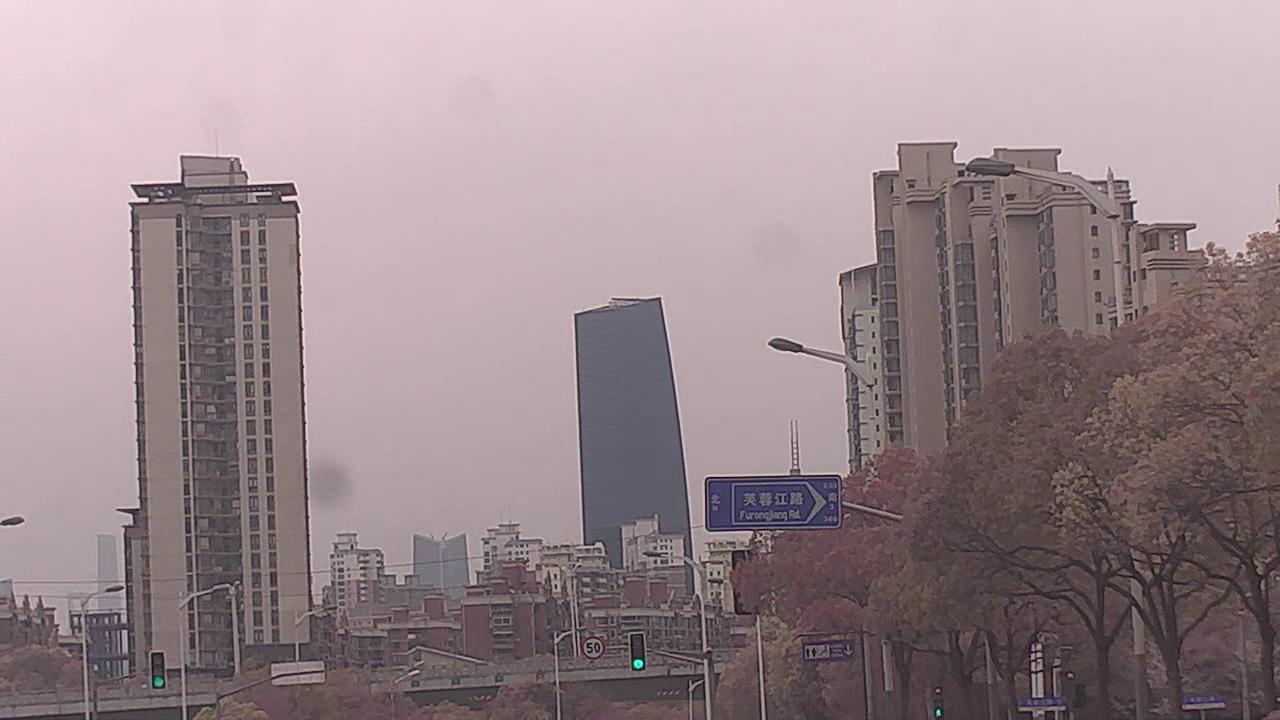traffic_light: (148, 651, 166, 690), (631, 632, 646, 670)
